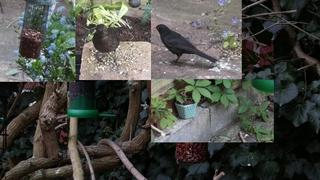blackbird: (152, 24, 218, 67), (92, 24, 127, 68)
